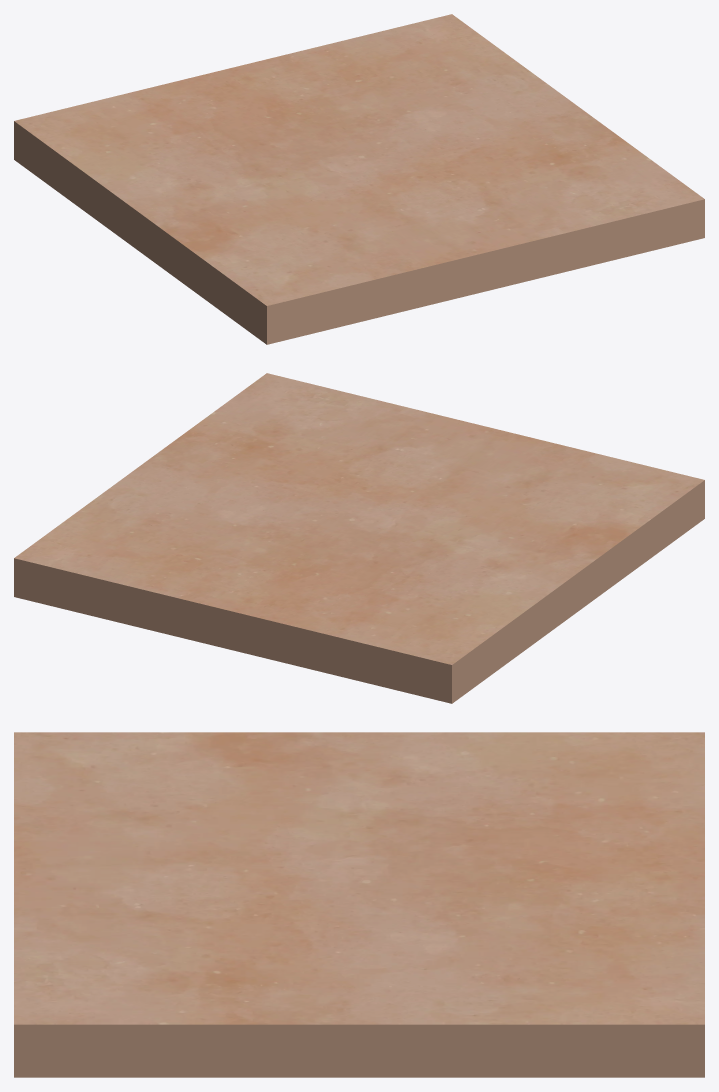
The picture shows the model from 3 angles, top to bottom: view 1: azimuth 30°, elevation 25°; view 2: azimuth 150°, elevation 25°; view 3: azimuth 270°, elevation 25°; orthographic projection. The views are drawn at different scales.
Visible parts, largest first — view 1: SM_BB_T4_Floor_Large_03_LOD0; view 2: SM_BB_T4_Floor_Large_03_LOD0; view 3: SM_BB_T4_Floor_Large_03_LOD0.
Part boxes in pixels (x1,y1,x2,y2): SM_BB_T4_Floor_Large_03_LOD0: [14, 14, 704, 344]; SM_BB_T4_Floor_Large_03_LOD0: [14, 373, 704, 703]; SM_BB_T4_Floor_Large_03_LOD0: [14, 732, 704, 1077].
Size of the model in its own units: 3 by 0.2538 by 3.
